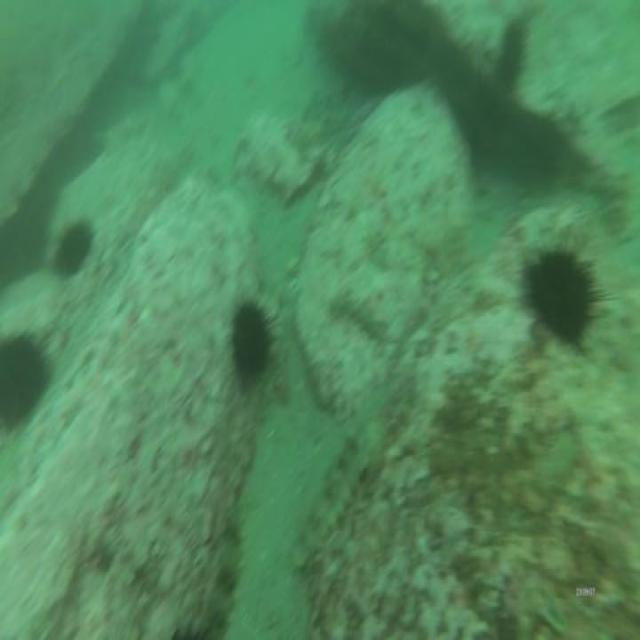echinus: (522, 234, 597, 354), (0, 320, 53, 431), (230, 294, 275, 384), (52, 217, 100, 284), (496, 16, 526, 90)
holothurian: (293, 414, 382, 575), (330, 286, 385, 345)
